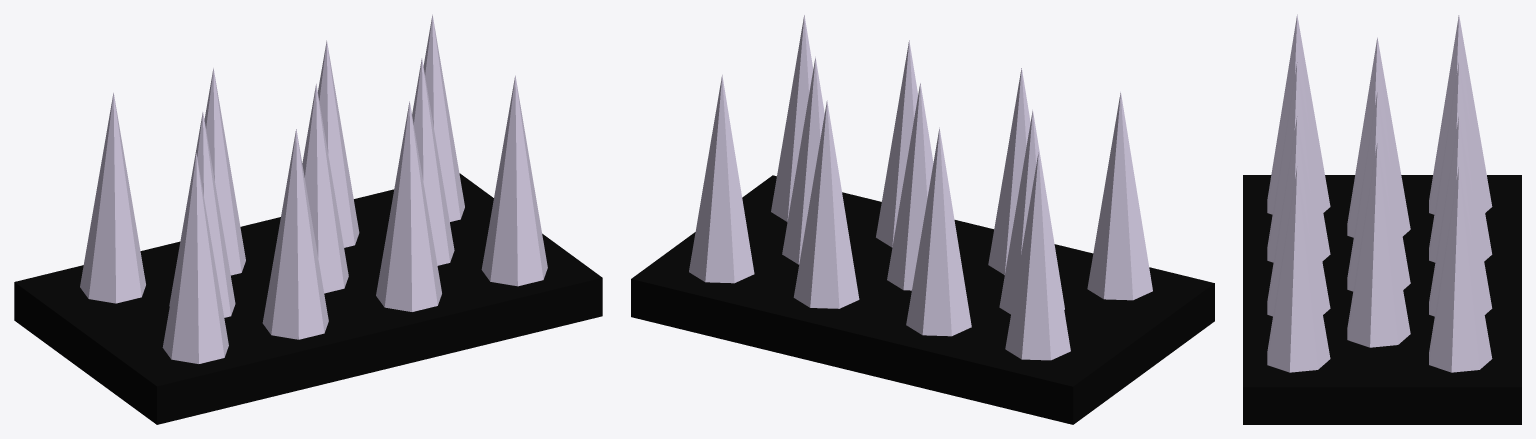
Rendered from OldSpikes.fbx.
3 views of the same model, side by side, from view 1: azimuth 30°, elevation 25°; view 2: azimuth 150°, elevation 25°; view 3: azimuth 270°, elevation 25° (orthographic). The views are drawn at different scales.
Visible parts, largest first — view 1: Spikes, Base; view 2: Spikes, Base; view 3: Spikes, Base.
Boxes of the visible parts, left/top/right/bottom form: Spikes: left=80, top=14, right=547, bottom=363; Base: left=14, top=173, right=602, bottom=424; Spikes: left=689, top=15, right=1152, bottom=360; Base: left=631, top=175, right=1214, bottom=424; Spikes: left=1267, top=14, right=1492, bottom=372; Base: left=1243, top=175, right=1521, bottom=424.
Size of the model in its own units: 200 by 101 by 111.
